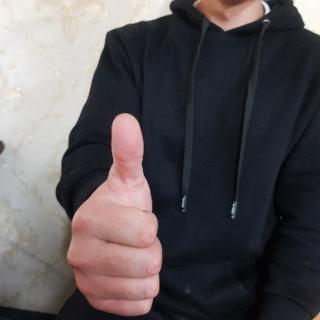ALIF: (65, 111, 176, 320)
